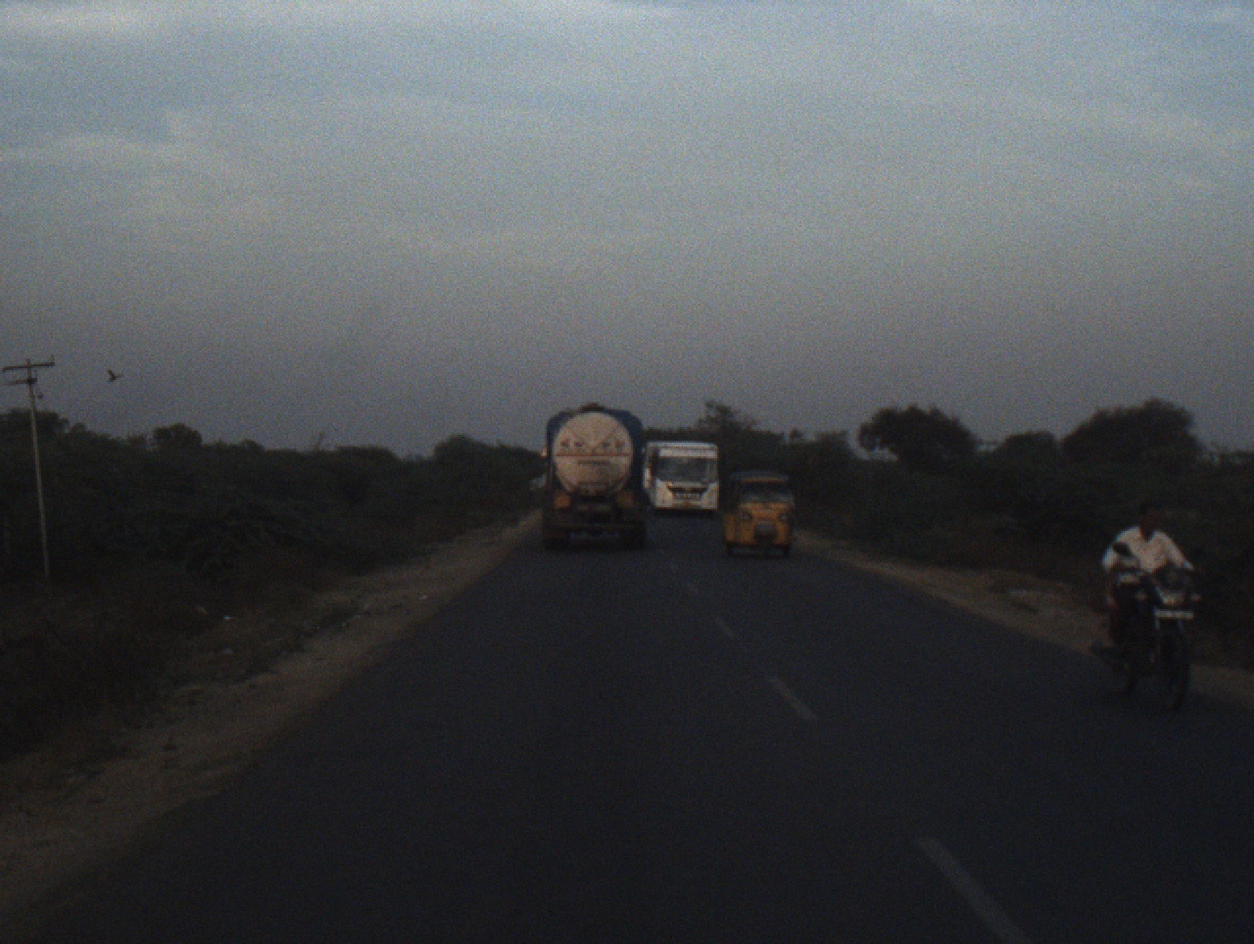autorickshaw: (713, 468, 810, 563)
bus: (642, 431, 723, 517)
motorcycle: (1094, 531, 1202, 717)
rider: (1100, 504, 1189, 682)
truck: (531, 399, 654, 549)
